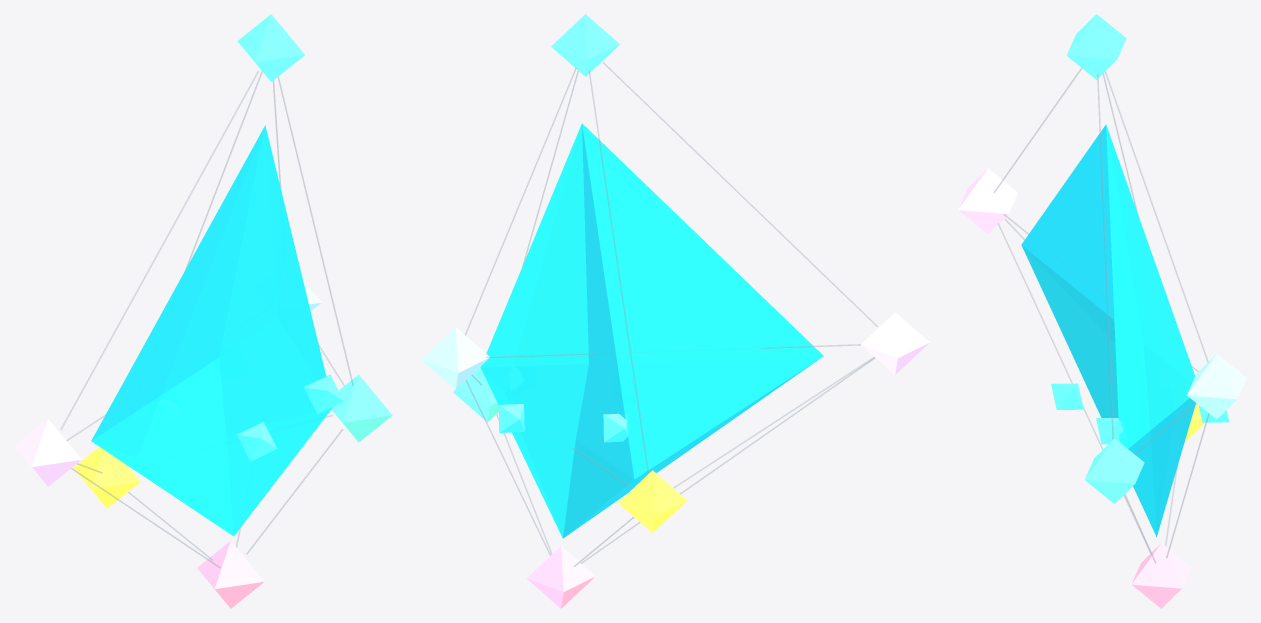
File: orbit_em_core_matrix.glb
The picture shows the model from 3 angles, left to right: view 1: azimuth 30°, elevation 25°; view 2: azimuth 150°, elevation 25°; view 3: azimuth 270°, elevation 25°; orthographic projection. The views are drawn at different scales.
Parts seen in each view (by area): view 1: object 1, node-sla, node-security, node-latency, node-complexity, node-budget, object 21, object 20, object 10, object 8; view 2: object 1, node-complexity, node-security, node-sla, node-compute, node-latency, node-budget, object 23, object 22; view 3: object 1, node-security, node-sla, node-budget, node-compute, node-latency, object 21, object 20, object 8, object 9, object 14.
Boxes of the visible parts, <box> form: object 1: <box>91,125,333,536</box>; node-sla: <box>237,14,304,81</box>; node-security: <box>197,541,264,608</box>; node-latency: <box>14,419,81,486</box>; node-complexity: <box>73,447,140,508</box>; node-budget: <box>331,374,392,442</box>; object 21: <box>237,422,276,461</box>; object 20: <box>304,374,343,414</box>; object 10: <box>60,71,258,429</box>; object 8: <box>278,76,353,385</box>; object 1: <box>480,123,823,538</box>; node-complexity: <box>618,470,686,532</box>; node-security: <box>526,546,595,608</box>; node-sla: <box>551,14,619,76</box>; node-compute: <box>421,327,489,389</box>; node-latency: <box>861,312,929,374</box>; node-budget: <box>453,366,498,422</box>; object 23: <box>498,404,524,432</box>; object 22: <box>603,413,627,442</box>; object 1: <box>1021,124,1195,536</box>; node-security: <box>1131,543,1191,608</box>; node-sla: <box>1066,14,1126,79</box>; node-budget: <box>1084,438,1144,503</box>; node-compute: <box>1187,354,1246,419</box>; node-latency: <box>958,168,1017,233</box>; object 21: <box>1051,383,1083,409</box>; object 20: <box>1096,418,1127,444</box>; object 8: <box>1097,74,1113,438</box>; object 9: <box>1105,71,1208,362</box>; object 14: <box>998,223,1150,552</box>.
Size of what is drawn, in the model's own units: 3.69 by 5.07 by 2.22.
